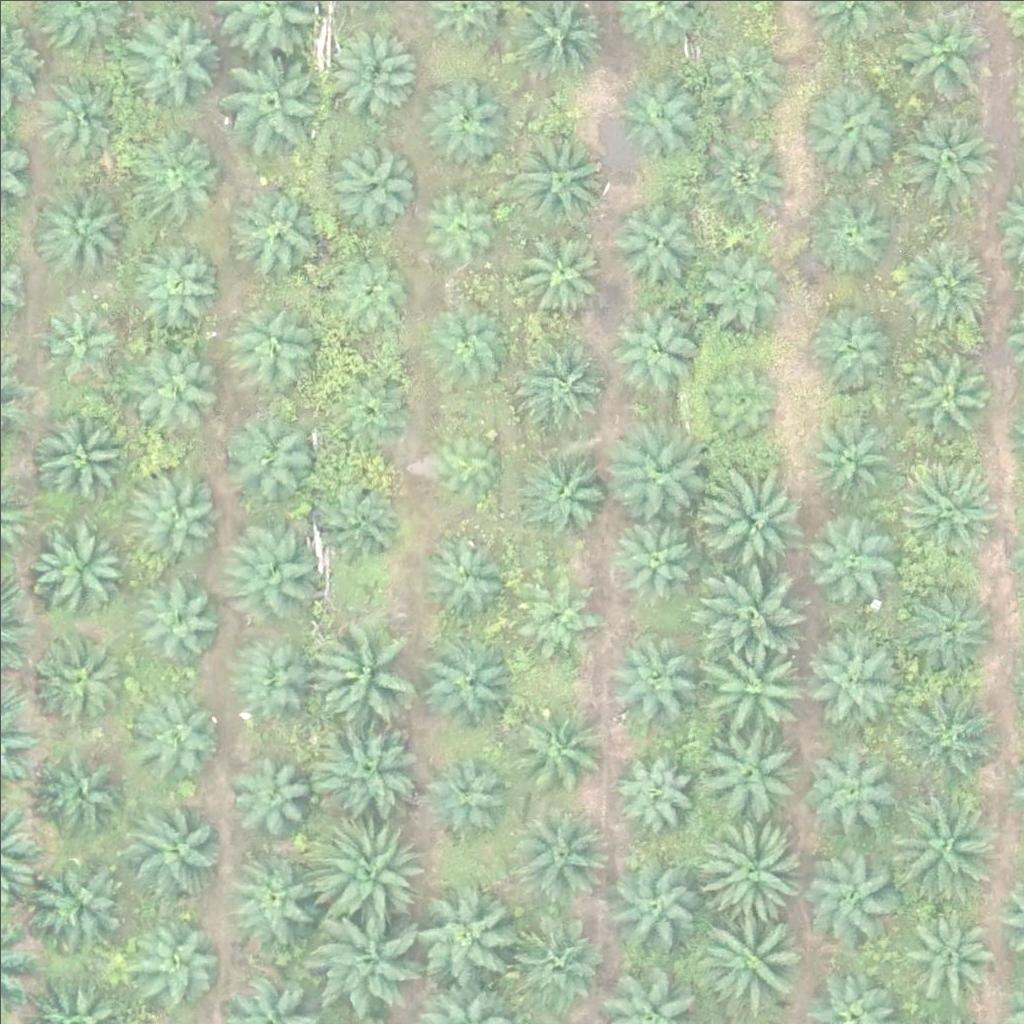Kelapa_Sawit: (309, 903, 422, 1016), (885, 784, 998, 897), (27, 844, 139, 957), (313, 810, 425, 923), (692, 809, 804, 922), (893, 5, 993, 106), (897, 679, 997, 780), (896, 462, 996, 563), (890, 231, 990, 332), (805, 628, 905, 729), (800, 82, 900, 183), (704, 628, 804, 729), (706, 475, 806, 576), (603, 419, 703, 520), (508, 123, 608, 224), (310, 617, 410, 718), (303, 469, 403, 570), (230, 173, 330, 274), (215, 48, 315, 149), (125, 336, 225, 437), (30, 402, 130, 503), (28, 521, 128, 622), (32, 630, 132, 731), (126, 796, 226, 897), (120, 907, 220, 1008), (223, 846, 323, 947), (696, 726, 796, 827), (802, 739, 902, 840), (798, 843, 898, 944), (896, 906, 996, 1007), (898, 104, 998, 204), (699, 558, 799, 658), (420, 627, 520, 727), (413, 523, 513, 623), (220, 516, 320, 616), (124, 11, 224, 111), (319, 715, 419, 815), (409, 878, 509, 978), (510, 803, 610, 903), (503, 911, 603, 1011), (702, 915, 802, 1015), (516, 442, 604, 531), (901, 575, 989, 663), (807, 304, 895, 392), (806, 184, 894, 272), (692, 240, 780, 328), (699, 126, 787, 214), (606, 508, 694, 596), (614, 297, 702, 385), (610, 196, 698, 284), (618, 67, 706, 155), (513, 700, 601, 788), (513, 573, 601, 661), (516, 337, 604, 425), (320, 358, 408, 446), (230, 631, 318, 719), (229, 410, 317, 498), (233, 298, 321, 386), (132, 573, 220, 661), (132, 466, 220, 554), (135, 233, 223, 321), (33, 189, 121, 277), (37, 748, 125, 836), (426, 747, 514, 835), (805, 417, 892, 506), (40, 295, 127, 384), (903, 346, 990, 434), (805, 508, 892, 596), (702, 31, 789, 119), (699, 349, 786, 437), (610, 629, 697, 717), (514, 223, 601, 311), (419, 77, 506, 165), (412, 181, 499, 269), (424, 304, 511, 392), (325, 241, 412, 329), (326, 132, 413, 220), (329, 24, 416, 112), (137, 126, 224, 214), (39, 68, 126, 156), (140, 684, 227, 772), (229, 752, 316, 840), (609, 857, 696, 945), (608, 749, 695, 837), (426, 422, 501, 498)
